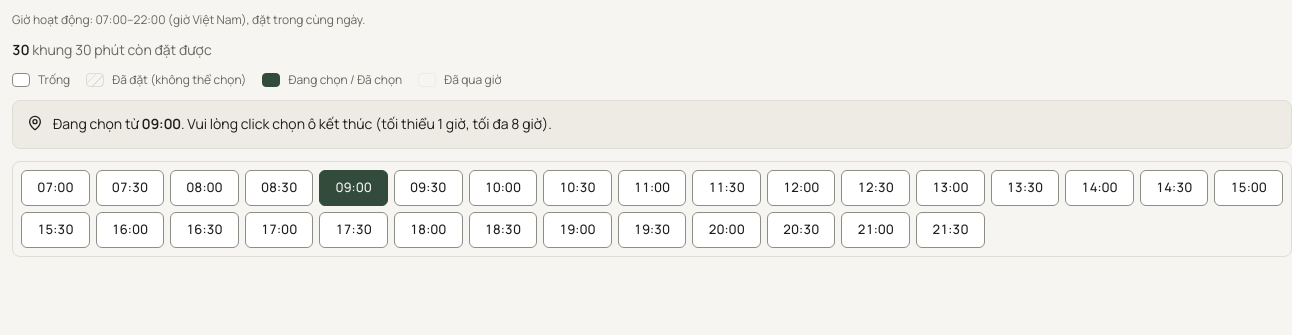
Test: TimeGrid component › AC2: Click chọn slot cập nhật start/end time › rejects clicking same start slot (30 min duration) and shows minimum 1h notice
Click the button with test id "time-slot-09:00": (354, 188) [319,170,388,206]
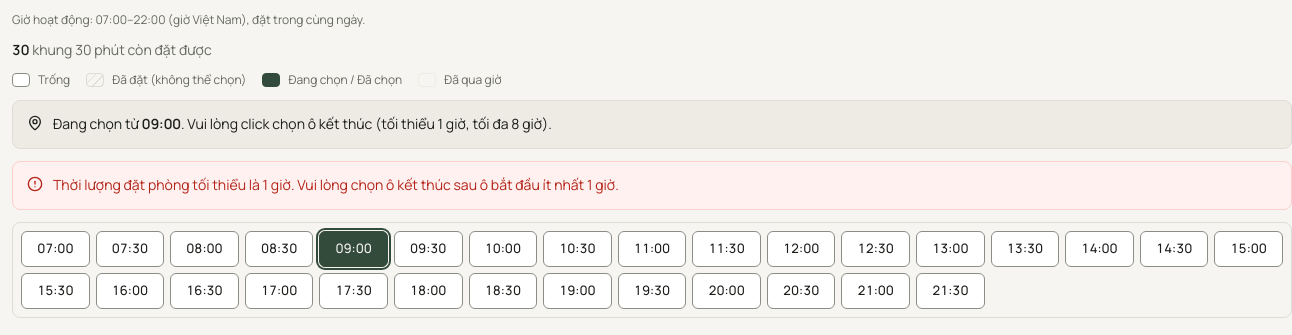
Expected: the message with test id "time-grid-error" shows "Thời lượng đặt phòng tối thiểu là 1 giờ", [53,175,619,194]
